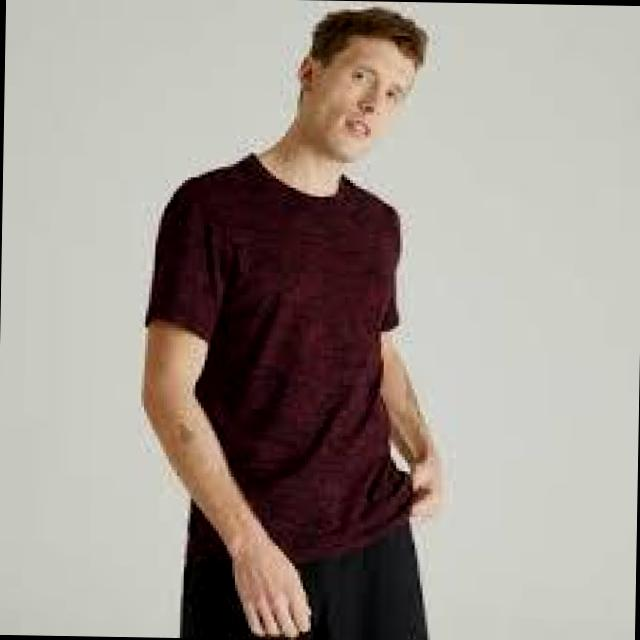Tshirt: (138, 150, 421, 564)
